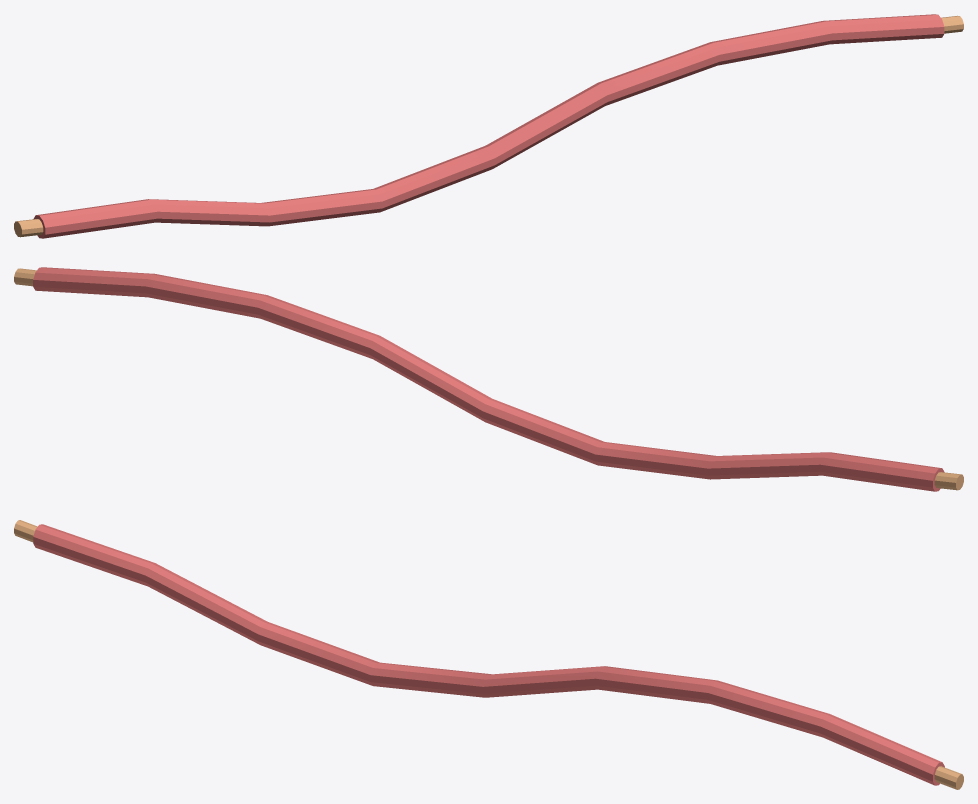
File: Wire_2_Red.fbx
The picture shows the model from 3 angles, top to bottom: view 1: azimuth 30°, elevation 25°; view 2: azimuth 150°, elevation 25°; view 3: azimuth 330°, elevation 25°; orthographic projection.
Visible parts, largest first — view 1: pCylinder17; view 2: pCylinder17; view 3: pCylinder17.
Boxes of the visible parts, x1,y1,x2,y2 form: pCylinder17: (14, 14, 963, 238); pCylinder17: (14, 267, 963, 491); pCylinder17: (14, 520, 963, 789).
Bounding box in the file's own units: 1.42 × 0.1254 × 0.0308.
